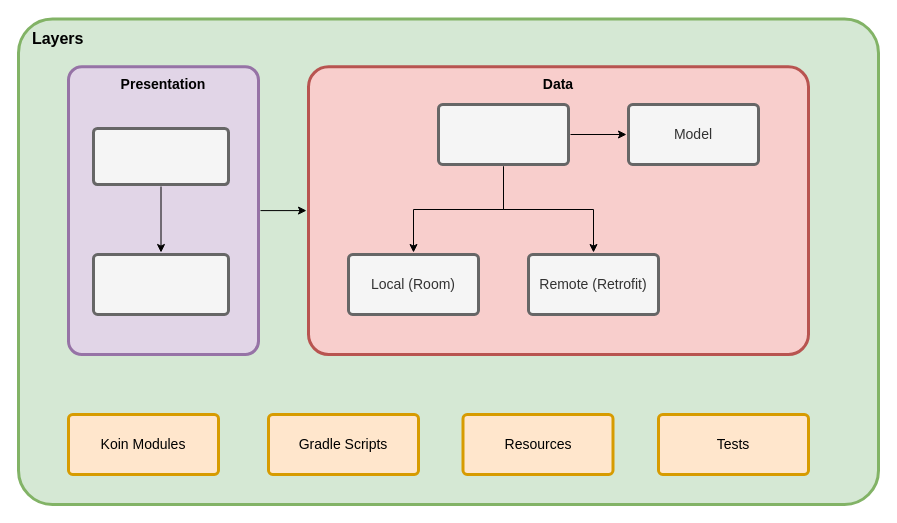
The diagram is 897 pixels wide and 523 high, and some of its shapes have lost their labels. The shapes that lost their labels are listed below. From the top down, each one's centre as x and y in pixels, then its label:
(503,134): Repository
(161,156): View (Activity)
(161,284): ViewModel
